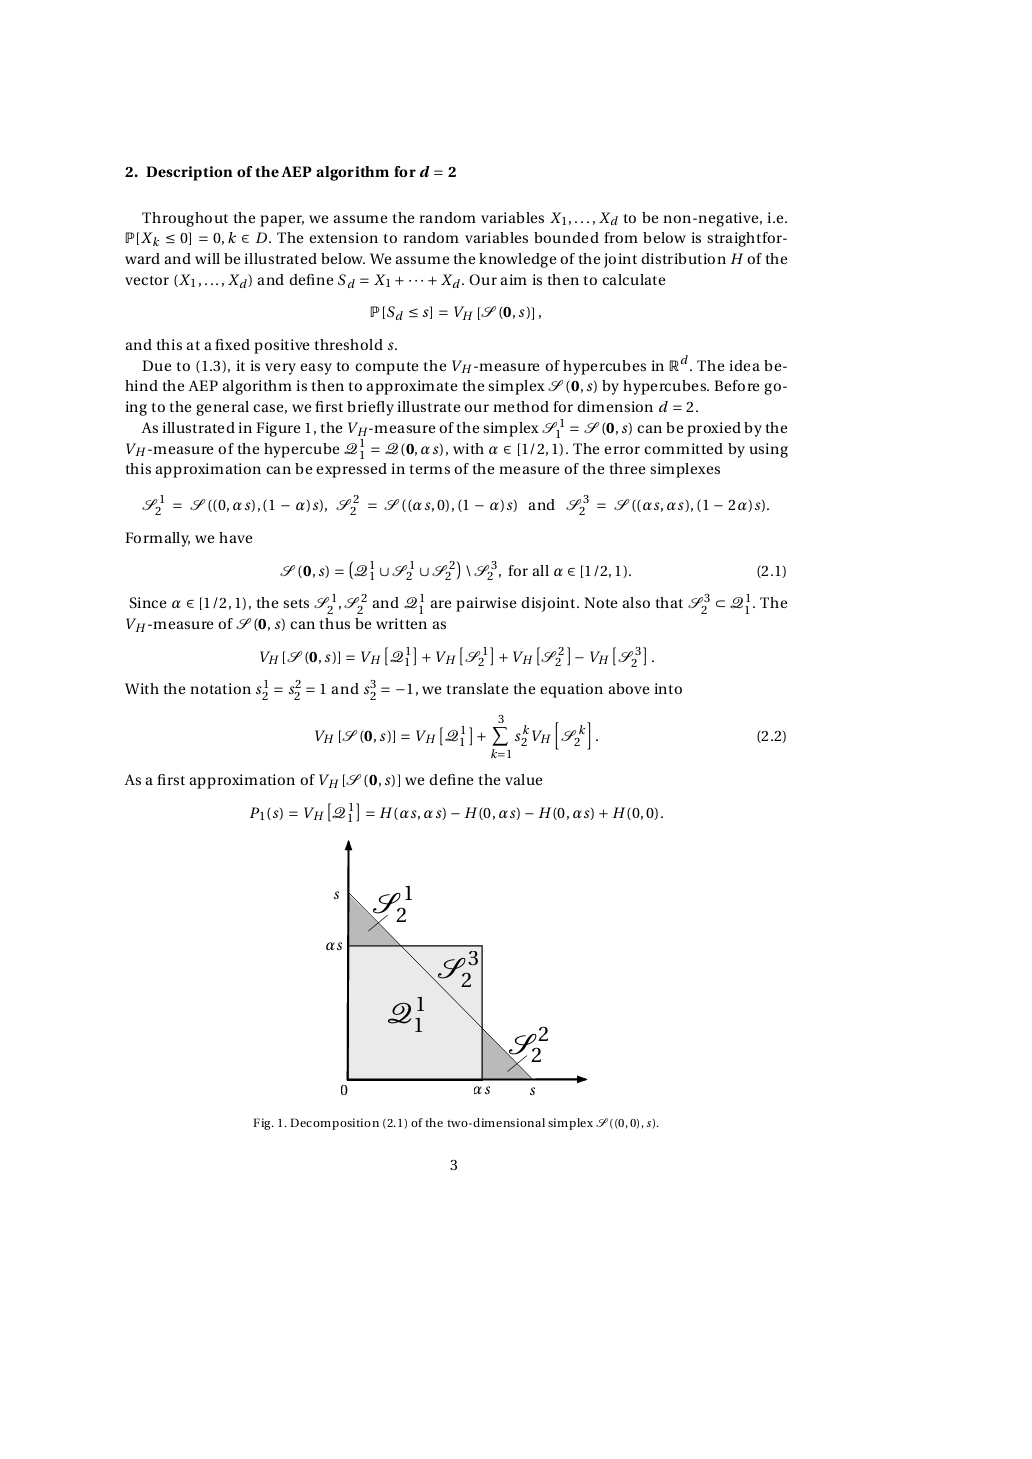figure: (326, 838, 587, 1096)
formula: (315, 713, 785, 759), (280, 559, 785, 580), (260, 645, 653, 668), (249, 802, 662, 822), (370, 305, 539, 321)
